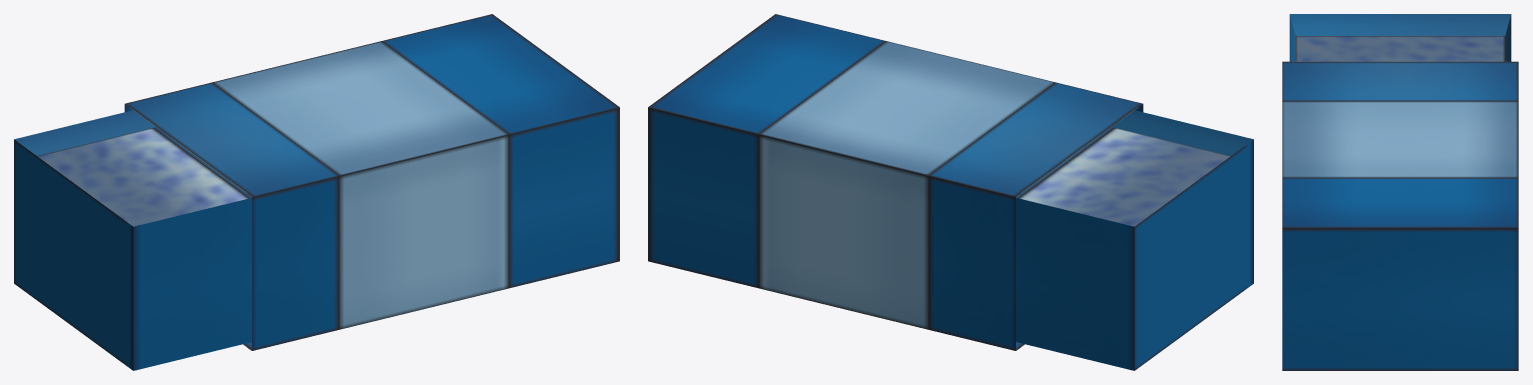
Rendered from magicpowder2.FBX.
3 renders of one model, left to right at view 1: azimuth 30°, elevation 25°; view 2: azimuth 150°, elevation 25°; view 3: azimuth 270°, elevation 25°, orthographic. The views are drawn at different scales.
Visible parts, largest first — view 1: Box001; view 2: Box001; view 3: Box001.
Part boxes in pixels (<box>): Box001: <box>14,14,619,370</box>; Box001: <box>648,14,1253,370</box>; Box001: <box>1282,14,1518,370</box>.
Bounding box in the file's own units: 69.37 × 21.16 × 31.74.
